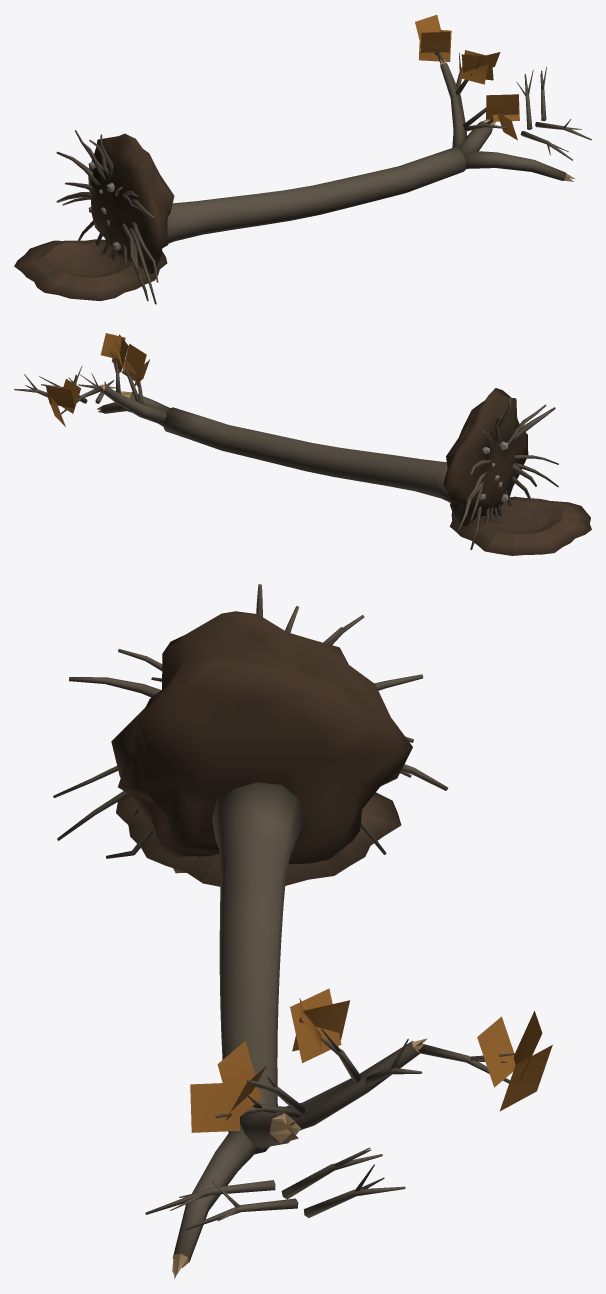
Rendered from tree_fall_a.glb.
The picture shows the model from 3 angles, top to bottom: view 1: azimuth 30°, elevation 25°; view 2: azimuth 150°, elevation 25°; view 3: azimuth 270°, elevation 25°; orthographic projection. The views are drawn at different scales.
Parts seen in each view (by area): view 1: tree_fall_a_roots_LOD0, tree_fall_a_trunk_LOD0, tree_fall_a_branches_LOD0; view 2: tree_fall_a_roots_LOD0, tree_fall_a_trunk_LOD0, tree_fall_a_branches_LOD0; view 3: tree_fall_a_roots_LOD0, tree_fall_a_branches_LOD0, tree_fall_a_trunk_LOD0.
Boxes of the visible parts, box(x1,y1,x2,y2) form: tree_fall_a_roots_LOD0: box(14, 130, 174, 304); tree_fall_a_trunk_LOD0: box(167, 147, 465, 243); tree_fall_a_branches_LOD0: box(415, 14, 591, 181); tree_fall_a_roots_LOD0: box(443, 388, 591, 555); tree_fall_a_trunk_LOD0: box(163, 407, 450, 502); tree_fall_a_branches_LOD0: box(14, 333, 169, 426); tree_fall_a_roots_LOD0: box(53, 584, 448, 886); tree_fall_a_branches_LOD0: box(145, 988, 552, 1278); tree_fall_a_trunk_LOD0: box(212, 782, 305, 1154).
Size of what is drawn, in the model's own units: 11.17 by 2.74 by 4.58.
